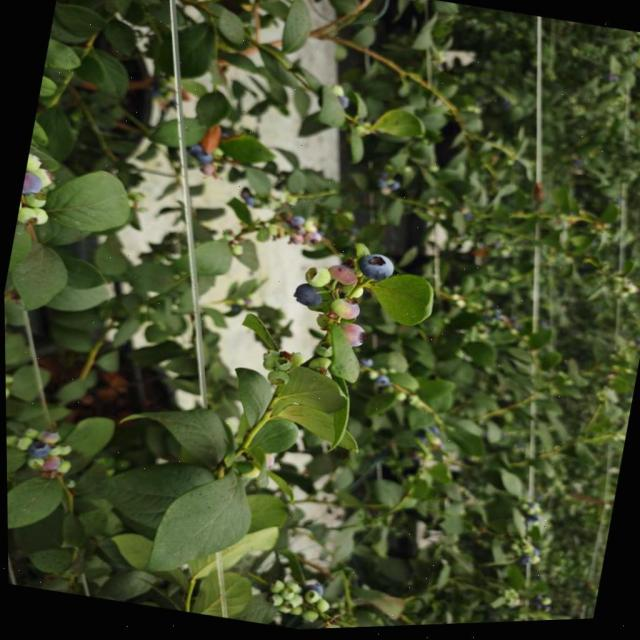RipeBlueBerry: (354, 252, 396, 286), (288, 282, 323, 312)
Semi-RipeBlueBerry: (336, 323, 369, 352), (324, 265, 358, 290)
UnripeBlueBerry: (300, 264, 332, 294), (328, 298, 362, 324)
